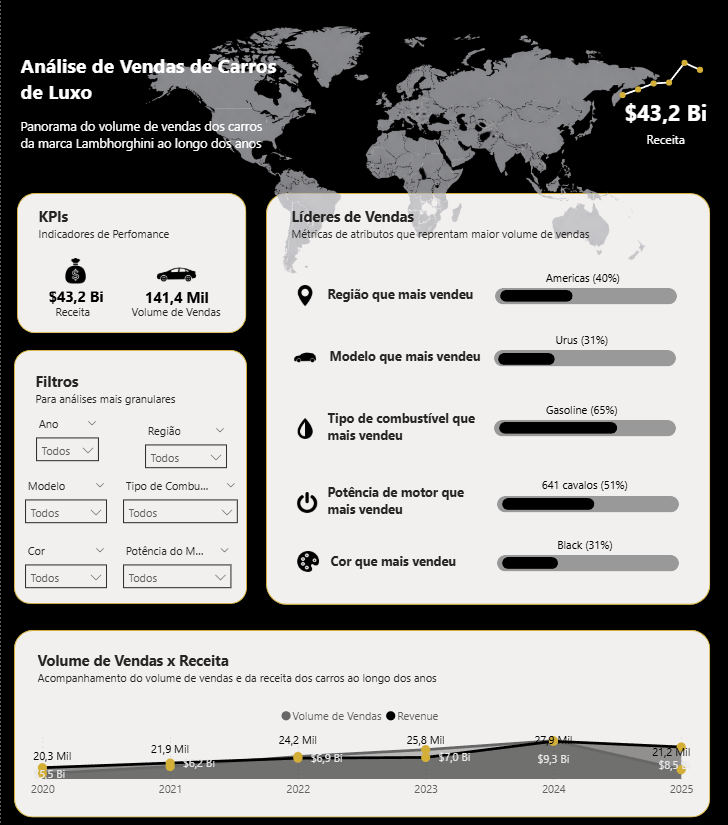

Layout of this report page (visuals, bound fields, positions):
{"tool":"powerbi","page":{"name":"Página 1","canvas":[800,2000],"ordinal":0},"visuals":[{"type":"shape","box":[450,1399.2,329.2,325],"z":0},{"type":"shape","box":[290.8,211.7,488.3,452.5],"z":1000},{"type":"shape","box":[16.7,1399.2,407.5,325],"z":2000},{"type":"image","box":[150.8,0,588.3,375],"z":3000},{"type":"textbox","box":[16,53,319,71],"z":4000},{"type":"textbox","box":[16,124,286,71],"z":5000},{"type":"card","fields":{"Values":["lamborghini_sales_2020_2025.Revenue"]},"box":[660,98,140,72],"z":6000},{"type":"lineChart","fields":{"Y":["lamborghini_sales_2020_2025.Revenue"],"Category":["lamborghini_sales_2020_2025.Year"]},"box":[668,48,132,76],"z":7000},{"type":"shape","box":[18,212,252,154],"z":8000},{"type":"card","fields":{"Values":["lamborghini_sales_2020_2025.Revenue"]},"box":[36,315,92,42],"z":9000},{"type":"card","fields":{"Values":["Sum(lamborghini_sales_2020_2025.Sales Volume)"]},"box":[123.3,315.8,140,42.5],"z":10000},{"type":"textbox","box":[36,222,212,36],"z":11000},{"type":"image","box":[148,280,88,43],"z":12000},{"type":"image","box":[55,284,53,28],"z":13000},{"type":"shape","box":[14,385,256,279],"z":14000},{"type":"textbox","box":[33,403,203,36],"z":15000},{"type":"textbox","box":[36,243,193,36],"z":16000},{"type":"textbox","box":[33,424,203,36],"z":17000},{"type":"textbox","box":[139,329,124,36],"z":18000},{"type":"textbox","box":[55,329,69,36],"z":19000},{"type":"slicer","fields":{"Values":["lamborghini_sales_2020_2025.Year"]},"box":[29,453,89,58],"z":20000},{"type":"slicer","fields":{"Values":["lamborghini_sales_2020_2025.Region"]},"box":[148,460,110,58],"z":21000},{"type":"slicer","fields":{"Values":["lamborghini_sales_2020_2025.Fuel Type"]},"box":[124,521,146,58],"z":22000},{"type":"slicer","fields":{"Values":["lamborghini_sales_2020_2025.Model"]},"box":[16,521,110,58],"z":23000},{"type":"slicer","fields":{"Values":["lamborghini_sales_2020_2025.Color"]},"box":[16,592,110,58],"z":24000},{"type":"slicer","fields":{"Values":["lamborghini_sales_2020_2025.Horsepower"]},"box":[124,592,139,58],"z":25000},{"type":"shape","box":[14,692,765,206],"z":26000},{"type":"textbox","box":[35,710,319,36],"z":27000},{"type":"textbox","box":[35,731,508,36],"z":28000},{"type":"lineChart","fields":{"Category":["lamborghini_sales_2020_2025.Year"],"Y":["Sum(lamborghini_sales_2020_2025.Sales Volume)"],"Y2":["lamborghini_sales_2020_2025.Revenue"]},"box":[27,767,738,118],"z":29000},{"type":"shape","box":[18,928,761,206],"z":30000},{"type":"lineChart","fields":{"Category":["lamborghini_sales_2020_2025.Year"],"Y":["Sum(lamborghini_sales_2020_2025.Sales Volume)"],"Series":["lamborghini_sales_2020_2025.Region"]},"box":[29,991,738,135],"z":31000},{"type":"textbox","box":[37,944,319,36],"z":32000},{"type":"textbox","box":[37,965,508,36],"z":33000},{"type":"clusteredColumnChart","fields":{"Category":["lamborghini_sales_2020_2025.Model"],"Y":["lamborghini_sales_2020_2025.Revenue","Sum(lamborghini_sales_2020_2025.Sales Volume)"]},"box":[14.2,1497.5,407.5,216.7],"z":34000},{"type":"textbox","box":[38,1416,319,36],"z":35000},{"type":"textbox","box":[38.3,1436.7,369.2,36.7],"z":36000},{"type":"shape","box":[18,1164,761,206],"z":37000},{"type":"lineChart","fields":{"Category":["lamborghini_sales_2020_2025.Year"],"Y":["Sum(lamborghini_sales_2020_2025.Sales Volume)"],"Series":["lamborghini_sales_2020_2025.Model"]},"box":[29,1227,738,135],"z":38000},{"type":"textbox","box":[37,1180,319,36],"z":39000},{"type":"textbox","box":[36.7,1200.8,545,35.8],"z":40000},{"type":"card","fields":{"Values":["lamborghini_sales_2020_2025.Regiao"]},"box":[543,290,193,36],"z":41000},{"type":"textbox","box":[314,222,319,36],"z":42000},{"type":"textbox","box":[314,243,440,36],"z":43000},{"type":"textbox","box":[354.2,309.2,179.2,35.8],"z":44000},{"type":"shape","box":[543,317,200,18],"z":45000},{"type":"image","box":[302.5,313.3,64.2,22.5],"z":46000},{"type":"shape","box":[548,319,80,13],"z":47000},{"type":"card","fields":{"Values":["lamborghini_sales_2020_2025.Modelo"]},"box":[542,358,193,36],"z":48000},{"type":"textbox","box":[355.8,376.7,177.5,36.7],"z":49000},{"type":"shape","box":[542,385,200,18],"z":50000},{"type":"image","box":[302.5,380.8,64.2,23.3],"z":51000},{"type":"shape","box":[546.7,387.5,62.5,13.3],"z":52000},{"type":"card","fields":{"Values":["lamborghini_sales_2020_2025.Tipo de Combustivel"]},"box":[542,435,193,36],"z":53000},{"type":"textbox","box":[354.2,445,179.2,49.2],"z":54000},{"type":"shape","box":[542,462,200,18],"z":55000},{"type":"image","box":[302.5,459.2,64.2,22.5],"z":56000},{"type":"shape","box":[547,464,130,13],"z":57000},{"type":"card","fields":{"Values":["lamborghini_sales_2020_2025.Potencia do Motor"]},"box":[545,518,193,36],"z":58000},{"type":"textbox","box":[354.2,526.7,180.8,53.3],"z":59000},{"type":"shape","box":[545,545,200,18],"z":60000},{"type":"image","box":[304.2,540.8,64.2,23.3],"z":61000},{"type":"shape","box":[550,547.5,101.7,13.3],"z":62000},{"type":"card","fields":{"Values":["lamborghini_sales_2020_2025.Cor Mais Vendida"]},"box":[545,583,193,36],"z":63000},{"type":"textbox","box":[357.5,601.7,177.5,36.7],"z":64000},{"type":"shape","box":[545,610,200,18],"z":65000},{"type":"image","box":[305,605.8,64.2,23.3],"z":66000},{"type":"shape","box":[550,612.5,61.7,13.3],"z":67000},{"type":"clusteredColumnChart","fields":{"Y":["lamborghini_sales_2020_2025.Revenue","Sum(lamborghini_sales_2020_2025.Sales Volume)"],"Category":["lamborghini_sales_2020_2025.Region"]},"box":[478.3,1487.5,277.5,226.7],"z":68000},{"type":"textbox","box":[470,1415.8,295,35.8],"z":69000},{"type":"textbox","box":[473.3,1436.7,314.2,36.7],"z":70000}]}

Visuals, with their boxes on the page's 800x2000 design canvas (x1, y1, x2, y2). These are canvas units, not pixel positions in the 728x825 screenshot, which may show the page scaled, cropped or inside an application window:
shape: BBox(450, 1399, 779, 1724)
shape: BBox(291, 212, 779, 664)
shape: BBox(17, 1399, 424, 1724)
image: BBox(151, 0, 739, 375)
textbox: BBox(16, 53, 335, 124)
textbox: BBox(16, 124, 302, 195)
card - lamborghini_sales_2020_2025.Revenue: BBox(660, 98, 800, 170)
lineChart - lamborghini_sales_2020_2025.Revenue x lamborghini_sales_2020_2025.Year: BBox(668, 48, 800, 124)
shape: BBox(18, 212, 270, 366)
card - lamborghini_sales_2020_2025.Revenue: BBox(36, 315, 128, 357)
card - Sum(lamborghini_sales_2020_2025.Sales Volume): BBox(123, 316, 263, 358)
textbox: BBox(36, 222, 248, 258)
image: BBox(148, 280, 236, 323)
image: BBox(55, 284, 108, 312)
shape: BBox(14, 385, 270, 664)
textbox: BBox(33, 403, 236, 439)
textbox: BBox(36, 243, 229, 279)
textbox: BBox(33, 424, 236, 460)
textbox: BBox(139, 329, 263, 365)
textbox: BBox(55, 329, 124, 365)
slicer - lamborghini_sales_2020_2025.Year: BBox(29, 453, 118, 511)
slicer - lamborghini_sales_2020_2025.Region: BBox(148, 460, 258, 518)
slicer - lamborghini_sales_2020_2025.Fuel Type: BBox(124, 521, 270, 579)
slicer - lamborghini_sales_2020_2025.Model: BBox(16, 521, 126, 579)
slicer - lamborghini_sales_2020_2025.Color: BBox(16, 592, 126, 650)
slicer - lamborghini_sales_2020_2025.Horsepower: BBox(124, 592, 263, 650)
shape: BBox(14, 692, 779, 898)
textbox: BBox(35, 710, 354, 746)
textbox: BBox(35, 731, 543, 767)
lineChart - lamborghini_sales_2020_2025.Year x Sum(lamborghini_sales_2020_2025.Sales Volume): BBox(27, 767, 765, 885)
shape: BBox(18, 928, 779, 1134)
lineChart - lamborghini_sales_2020_2025.Year x Sum(lamborghini_sales_2020_2025.Sales Volume): BBox(29, 991, 767, 1126)
textbox: BBox(37, 944, 356, 980)
textbox: BBox(37, 965, 545, 1001)
clusteredColumnChart - lamborghini_sales_2020_2025.Model x lamborghini_sales_2020_2025.Revenue: BBox(14, 1498, 422, 1714)
textbox: BBox(38, 1416, 357, 1452)
textbox: BBox(38, 1437, 408, 1473)
shape: BBox(18, 1164, 779, 1370)
lineChart - lamborghini_sales_2020_2025.Year x Sum(lamborghini_sales_2020_2025.Sales Volume): BBox(29, 1227, 767, 1362)
textbox: BBox(37, 1180, 356, 1216)
textbox: BBox(37, 1201, 582, 1237)
card - lamborghini_sales_2020_2025.Regiao: BBox(543, 290, 736, 326)
textbox: BBox(314, 222, 633, 258)
textbox: BBox(314, 243, 754, 279)
textbox: BBox(354, 309, 533, 345)
shape: BBox(543, 317, 743, 335)
image: BBox(302, 313, 367, 336)
shape: BBox(548, 319, 628, 332)
card - lamborghini_sales_2020_2025.Modelo: BBox(542, 358, 735, 394)
textbox: BBox(356, 377, 533, 413)
shape: BBox(542, 385, 742, 403)
image: BBox(302, 381, 367, 404)
shape: BBox(547, 388, 609, 401)
card - lamborghini_sales_2020_2025.Tipo de Combustivel: BBox(542, 435, 735, 471)
textbox: BBox(354, 445, 533, 494)
shape: BBox(542, 462, 742, 480)
image: BBox(302, 459, 367, 482)
shape: BBox(547, 464, 677, 477)
card - lamborghini_sales_2020_2025.Potencia do Motor: BBox(545, 518, 738, 554)
textbox: BBox(354, 527, 535, 580)
shape: BBox(545, 545, 745, 563)
image: BBox(304, 541, 368, 564)
shape: BBox(550, 548, 652, 561)
card - lamborghini_sales_2020_2025.Cor Mais Vendida: BBox(545, 583, 738, 619)
textbox: BBox(358, 602, 535, 638)
shape: BBox(545, 610, 745, 628)
image: BBox(305, 606, 369, 629)
shape: BBox(550, 612, 612, 626)
clusteredColumnChart - lamborghini_sales_2020_2025.Revenue x Sum(lamborghini_sales_2020_2025.Sales Volume): BBox(478, 1488, 756, 1714)
textbox: BBox(470, 1416, 765, 1452)
textbox: BBox(473, 1437, 788, 1473)
